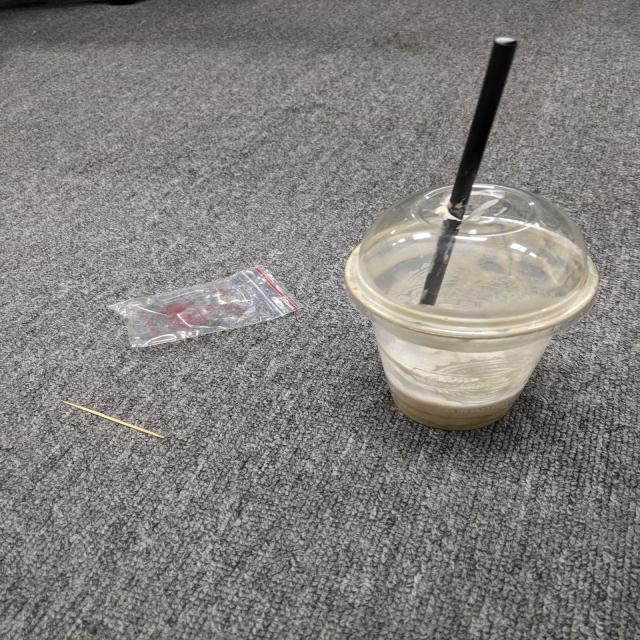drinking straw: (419, 37, 517, 306)
packet: (108, 264, 304, 349)
plastic glass: (345, 182, 598, 430)
